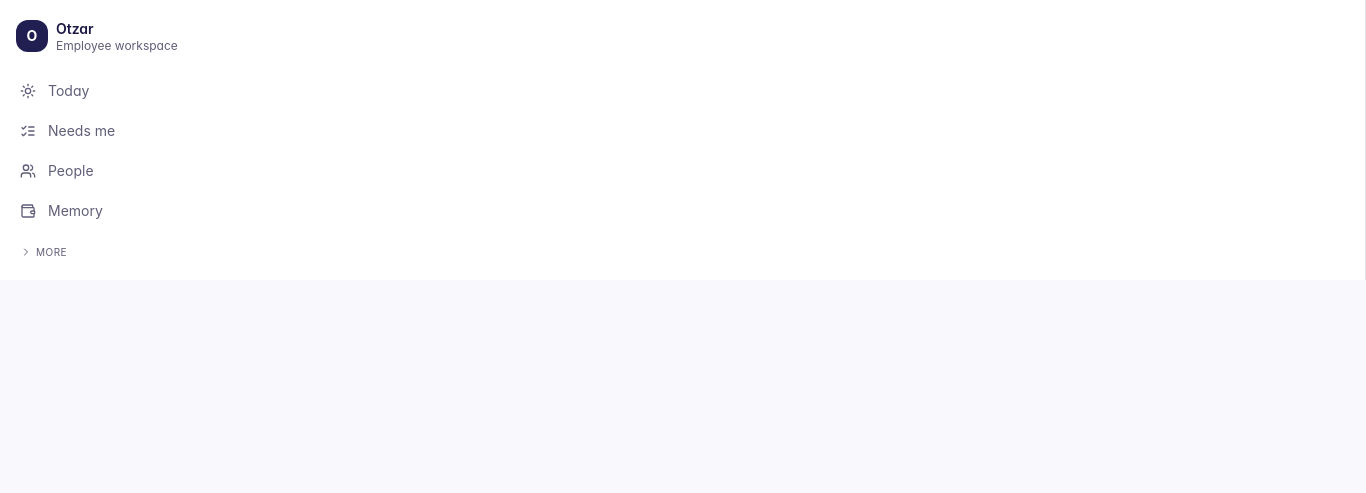
Test: EmployeeNav renderer — visually separates the two groups › renders a 'More' disclosure that expands the more list
Click the button with test id "employee-nav-more-toggle" at (52, 252), box [8,244,1357,264]
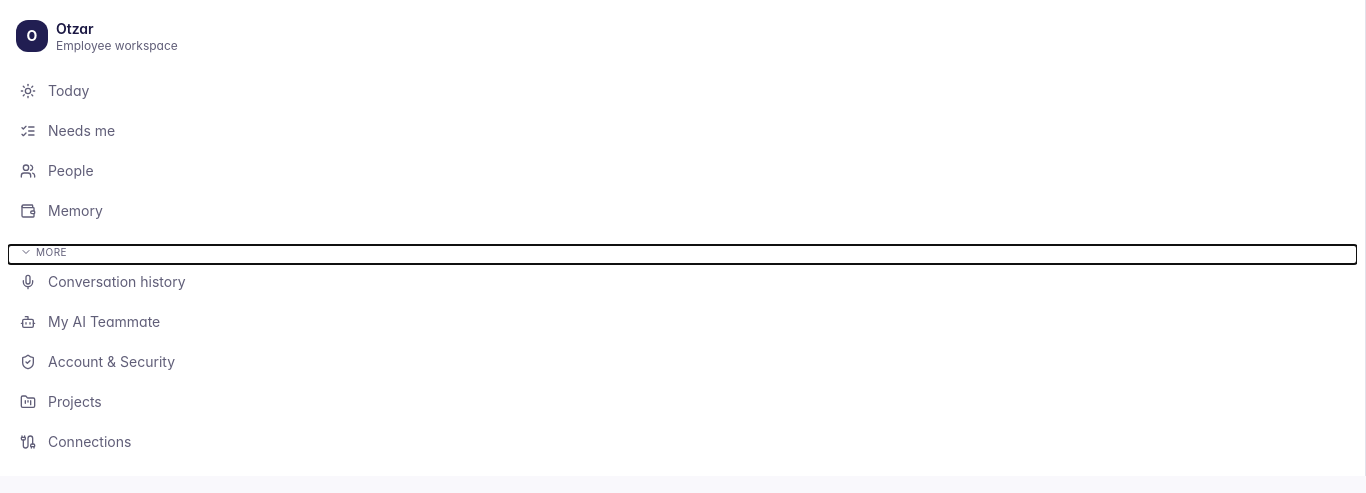
Expected: the list with test id "employee-nav-more" is shown, [20,272,186,450]
Expected: the button with test id "employee-nav-more-toggle" is expanded, [8,244,1357,264]
